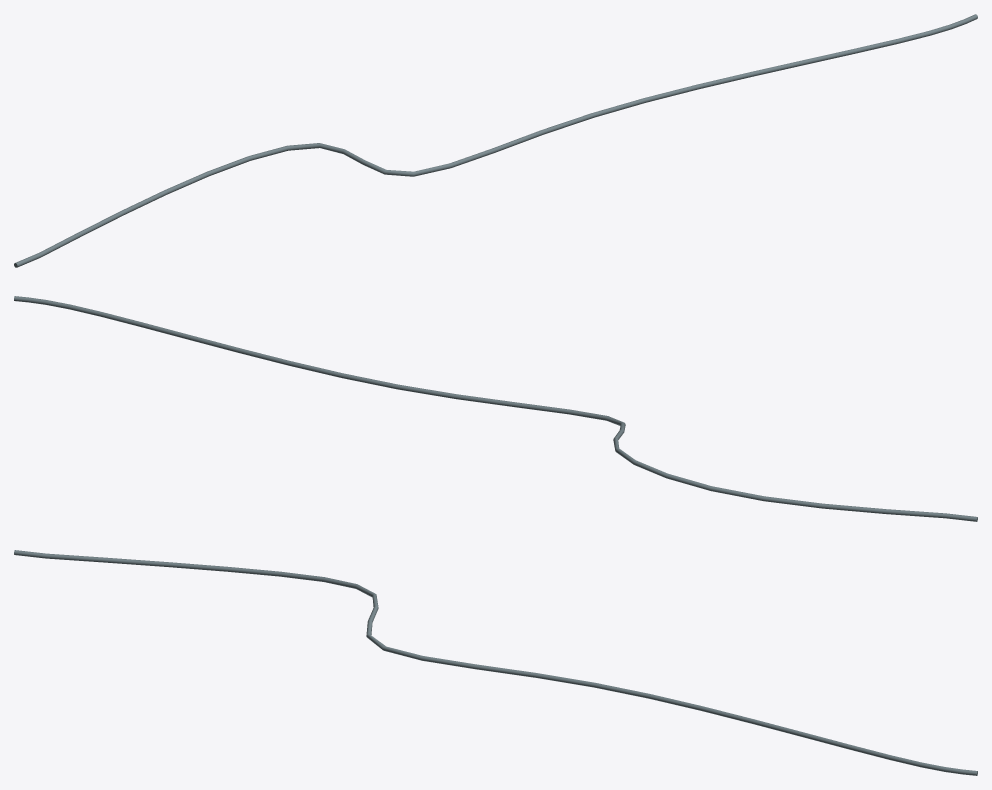
Rendered from Rope 3.fbx.
The picture shows the model from 3 angles, top to bottom: view 1: azimuth 30°, elevation 25°; view 2: azimuth 150°, elevation 25°; view 3: azimuth 330°, elevation 25°; orthographic projection. The views are drawn at different scales.
Parts seen in each view (by area): view 1: pCylinder24; view 2: pCylinder24; view 3: pCylinder24.
Part boxes in pixels (box(x1,y1,x2,y2)): pCylinder24: box(14, 14, 977, 267); pCylinder24: box(14, 296, 977, 521); pCylinder24: box(14, 550, 977, 775).
Bounding box in the file's own units: 7.41 × 0.1308 × 0.7048.
